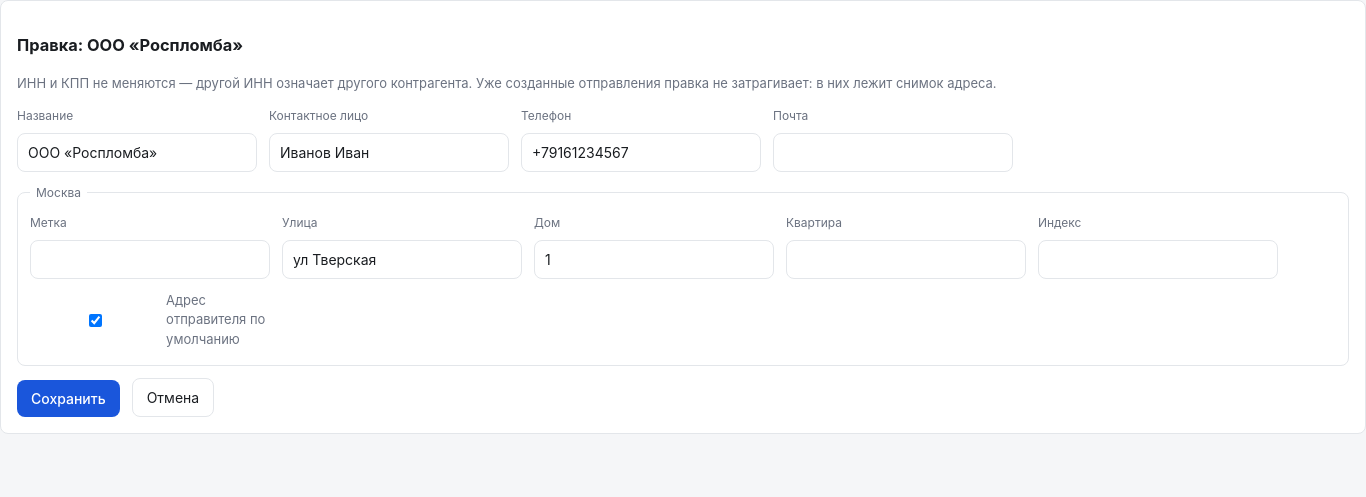
Test: AddressBookEdit › без единой правки запрос не уходит вовсе
Step 1. Click the button "Сохранить" → (68, 399), box [17, 380, 120, 417]
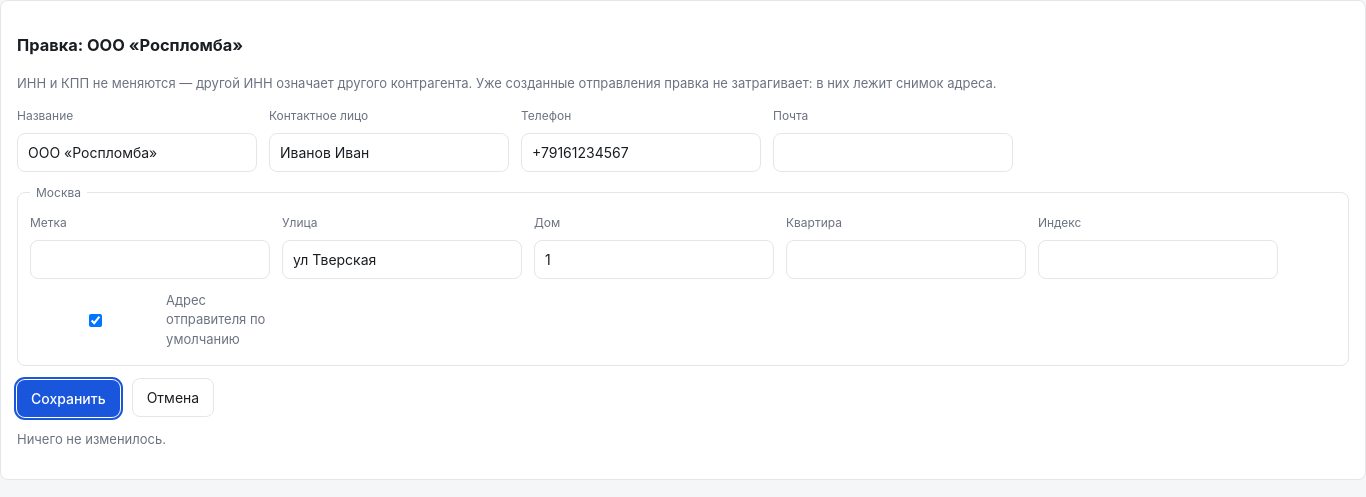
Expected: the text "Ничего не изменилось." is shown, [17, 431, 166, 447]
